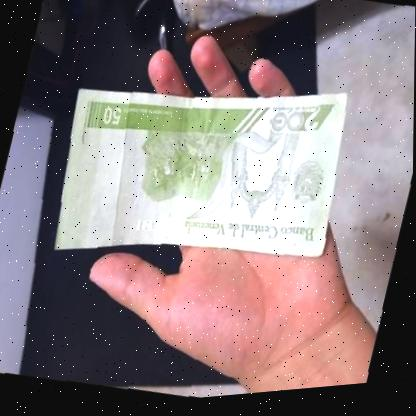fifty-back-vef: (39, 37, 363, 313)
